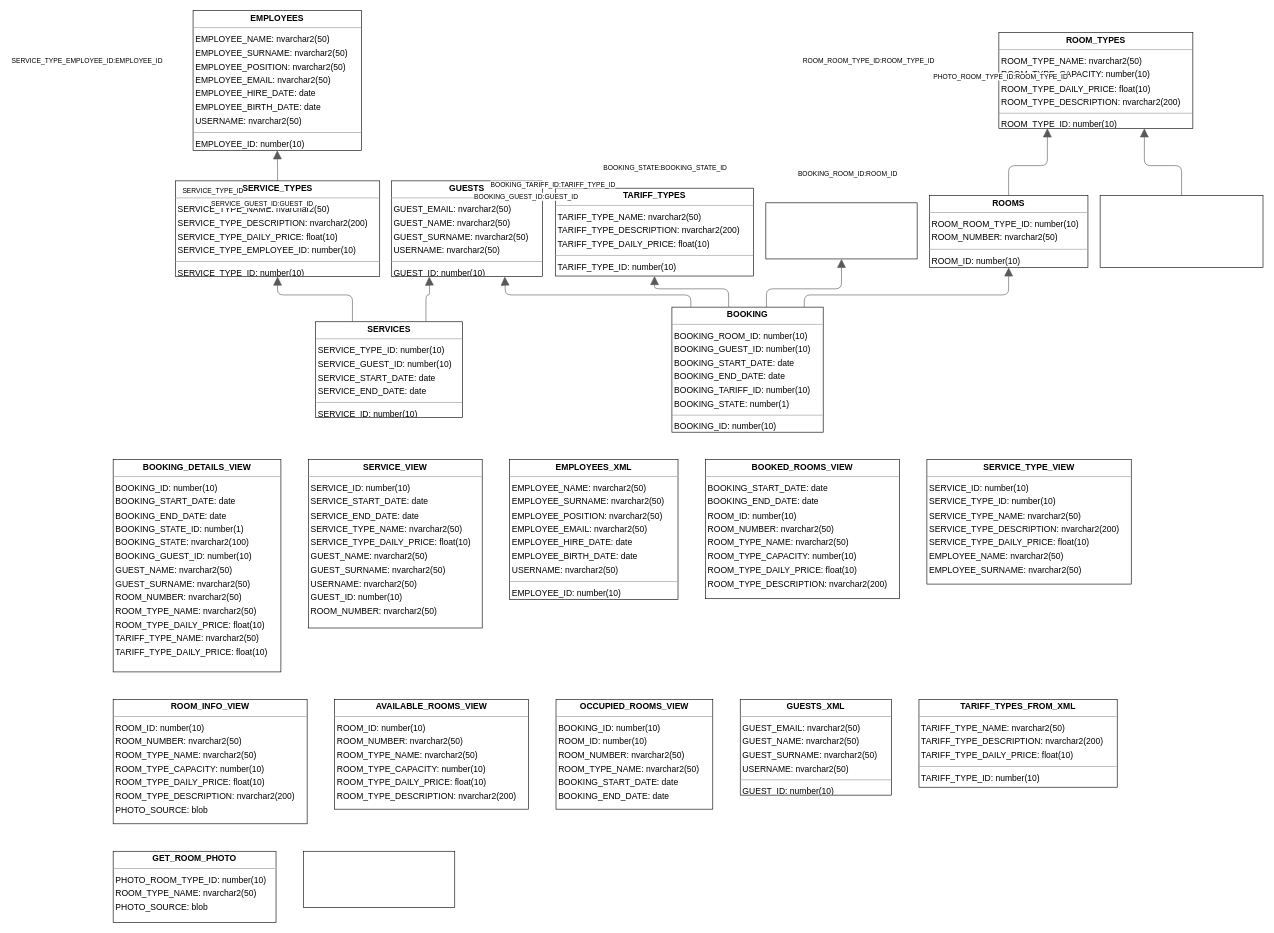
The diagram is 1274 pixels wide and 933 high, and some of its shapes have lost their labels. Each missing label, with the centre of its shape:
BOOKING_STATE BOOKING_STATE: nvarchar2(100) BOOKING_STATE_ID: number(1): (841,230)
BOOKING_STATE_XML BOOKING_STATE: nvarchar2(100) BOOKING_STATE_ID: number(1): (379,879)
PHOTO PHOTO_ROOM_TYPE_ID: number(10) PHOTO_SOURCE: blob PHOTO_ID: number(10): (1181,231)
